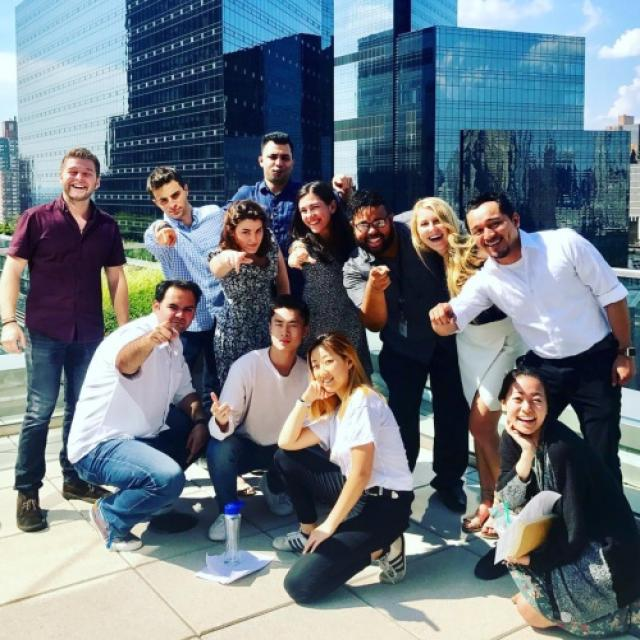body: (426, 190, 640, 582), (0, 144, 134, 534), (338, 186, 470, 514), (266, 327, 420, 608), (486, 362, 639, 638), (408, 196, 530, 542), (64, 276, 215, 554), (201, 290, 334, 543), (141, 163, 237, 429), (284, 177, 378, 388), (218, 130, 356, 261), (206, 197, 293, 391)
